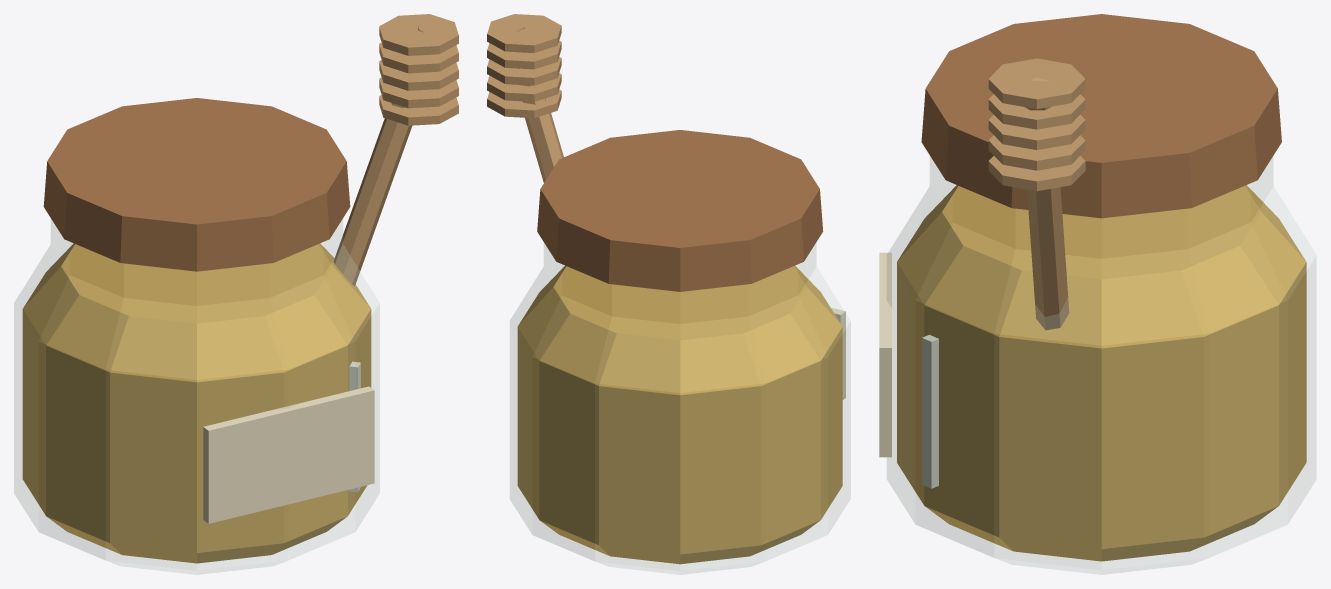
Rendered from honey.glb.
3 views of the same model, side by side, from view 1: azimuth 30°, elevation 25°; view 2: azimuth 150°, elevation 25°; view 3: azimuth 270°, elevation 25° (orthographic). The views are drawn at different scales.
Visible parts, largest first — view 1: geometry, glass; view 2: geometry, glass; view 3: geometry, glass.
Boxes of the visible parts, left/top/right/bottom form: geometry: left=22, top=14, right=458, bottom=563; glass: left=14, top=219, right=379, bottom=574; geometry: left=487, top=14, right=845, bottom=564; glass: left=510, top=243, right=850, bottom=574; geometry: left=879, top=14, right=1306, bottom=561; glass: left=887, top=156, right=1316, bottom=574.
Bounding box in the file's own units: 0.4895 × 0.5455 × 0.4059.
